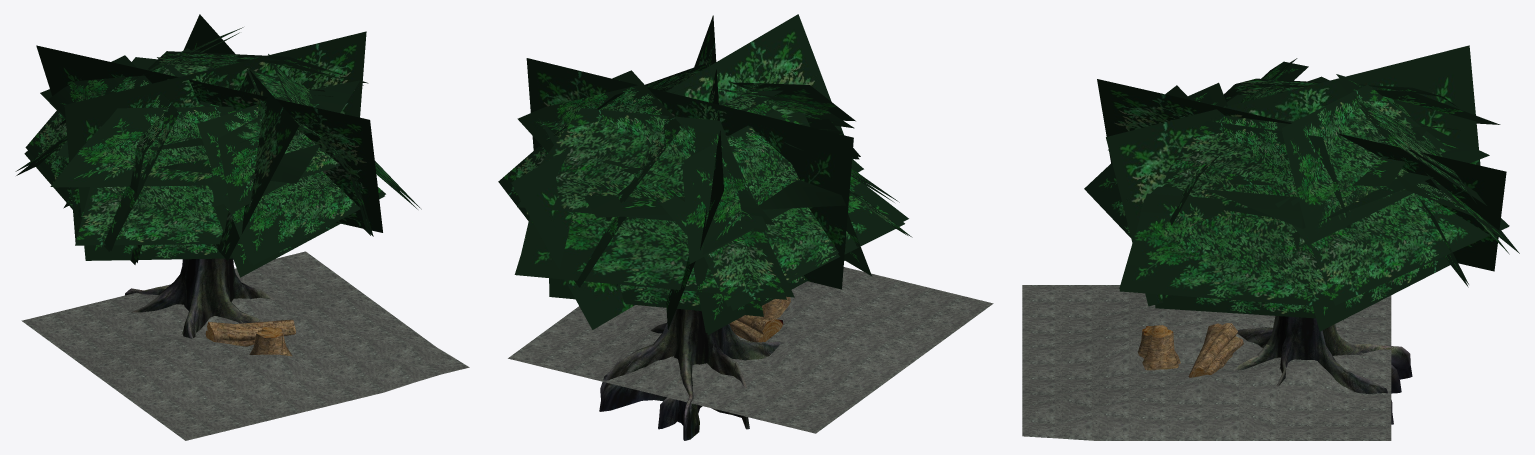
Rendered from jungle_set.fbx.
The picture shows the model from 3 angles, left to right: view 1: azimuth 30°, elevation 25°; view 2: azimuth 150°, elevation 25°; view 3: azimuth 270°, elevation 25°; orthographic projection. The views are drawn at different scales.
Visible parts, largest first — view 1: jungle_canopy, jungle_terrain, jungle_veg, tree_fallen, tree_stump; view 2: jungle_canopy, jungle_terrain, jungle_veg, tree_fallen; view 3: jungle_canopy, jungle_terrain, jungle_veg, tree_fallen, tree_stump.
Part boxes in pixels (x1,y1,x2,y2): jungle_canopy: [15, 14, 421, 277]; jungle_terrain: [21, 251, 469, 440]; jungle_veg: [125, 258, 274, 339]; tree_fallen: [205, 319, 295, 346]; tree_stump: [249, 327, 292, 356]; jungle_canopy: [498, 14, 912, 334]; jungle_terrain: [508, 267, 993, 433]; jungle_veg: [599, 309, 781, 440]; tree_fallen: [729, 315, 783, 342]; jungle_canopy: [1084, 45, 1519, 331]; jungle_terrain: [1022, 285, 1391, 440]; jungle_veg: [1233, 316, 1412, 424]; tree_fallen: [1188, 323, 1243, 377]; tree_stump: [1138, 325, 1180, 370].
Size of the model in its own units: 2945 by 2336 by 3300.
3 materials, 3 textured.
